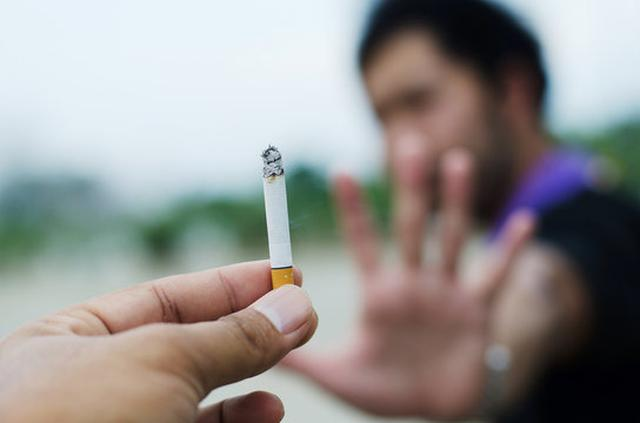Cigarette: (259, 144, 295, 289)
